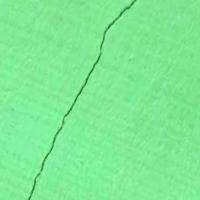crack: (26, 0, 140, 199)
